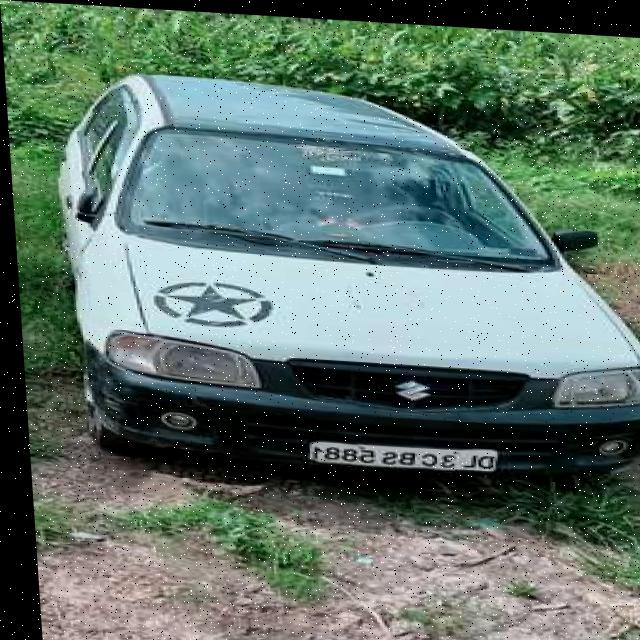plate: (303, 434, 497, 469)
